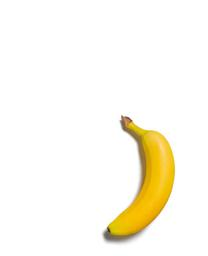banana: (103, 114, 175, 239)
